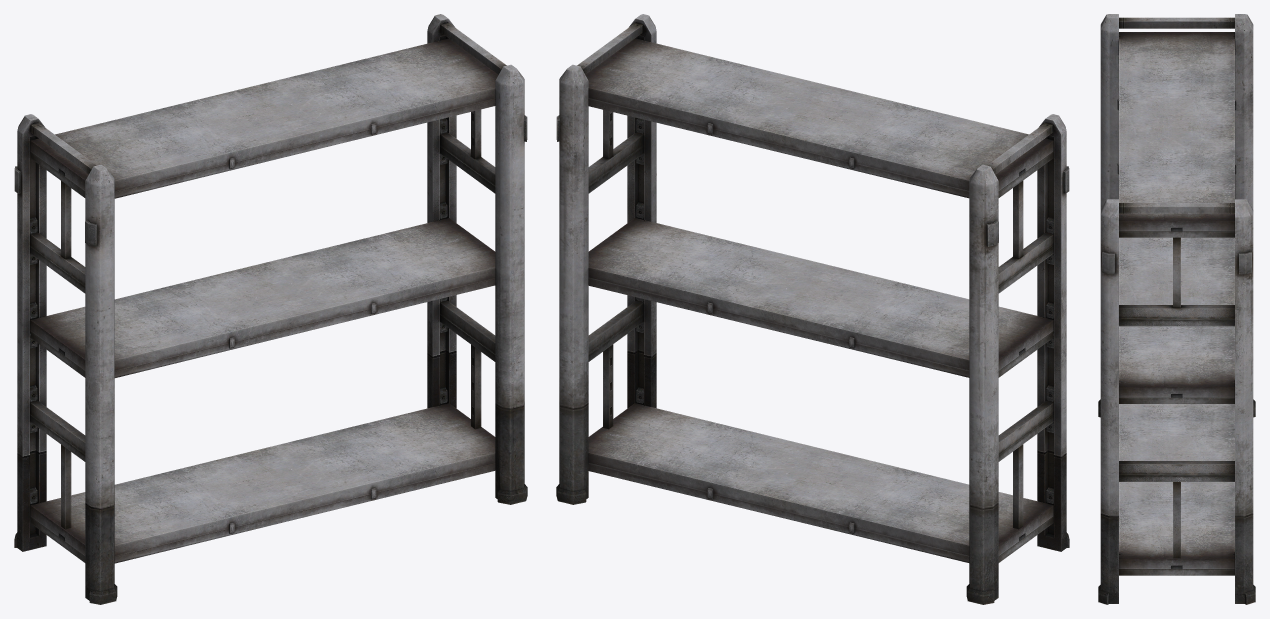
Rendered from shelf_theta_large.DAE.
3 renders of one model, left to right at view 1: azimuth 30°, elevation 25°; view 2: azimuth 150°, elevation 25°; view 3: azimuth 270°, elevation 25°, orthographic. The views are drawn at different scales.
Parts seen in each view (by area): view 1: shelf_theta_large; view 2: shelf_theta_large; view 3: shelf_theta_large.
Part boxes in pixels (x1,y1,x2,y2): shelf_theta_large: [14, 14, 527, 604]; shelf_theta_large: [556, 14, 1069, 604]; shelf_theta_large: [1098, 14, 1255, 604].
Size of the model in its own units: 2.36 by 2.21 by 0.7901.
